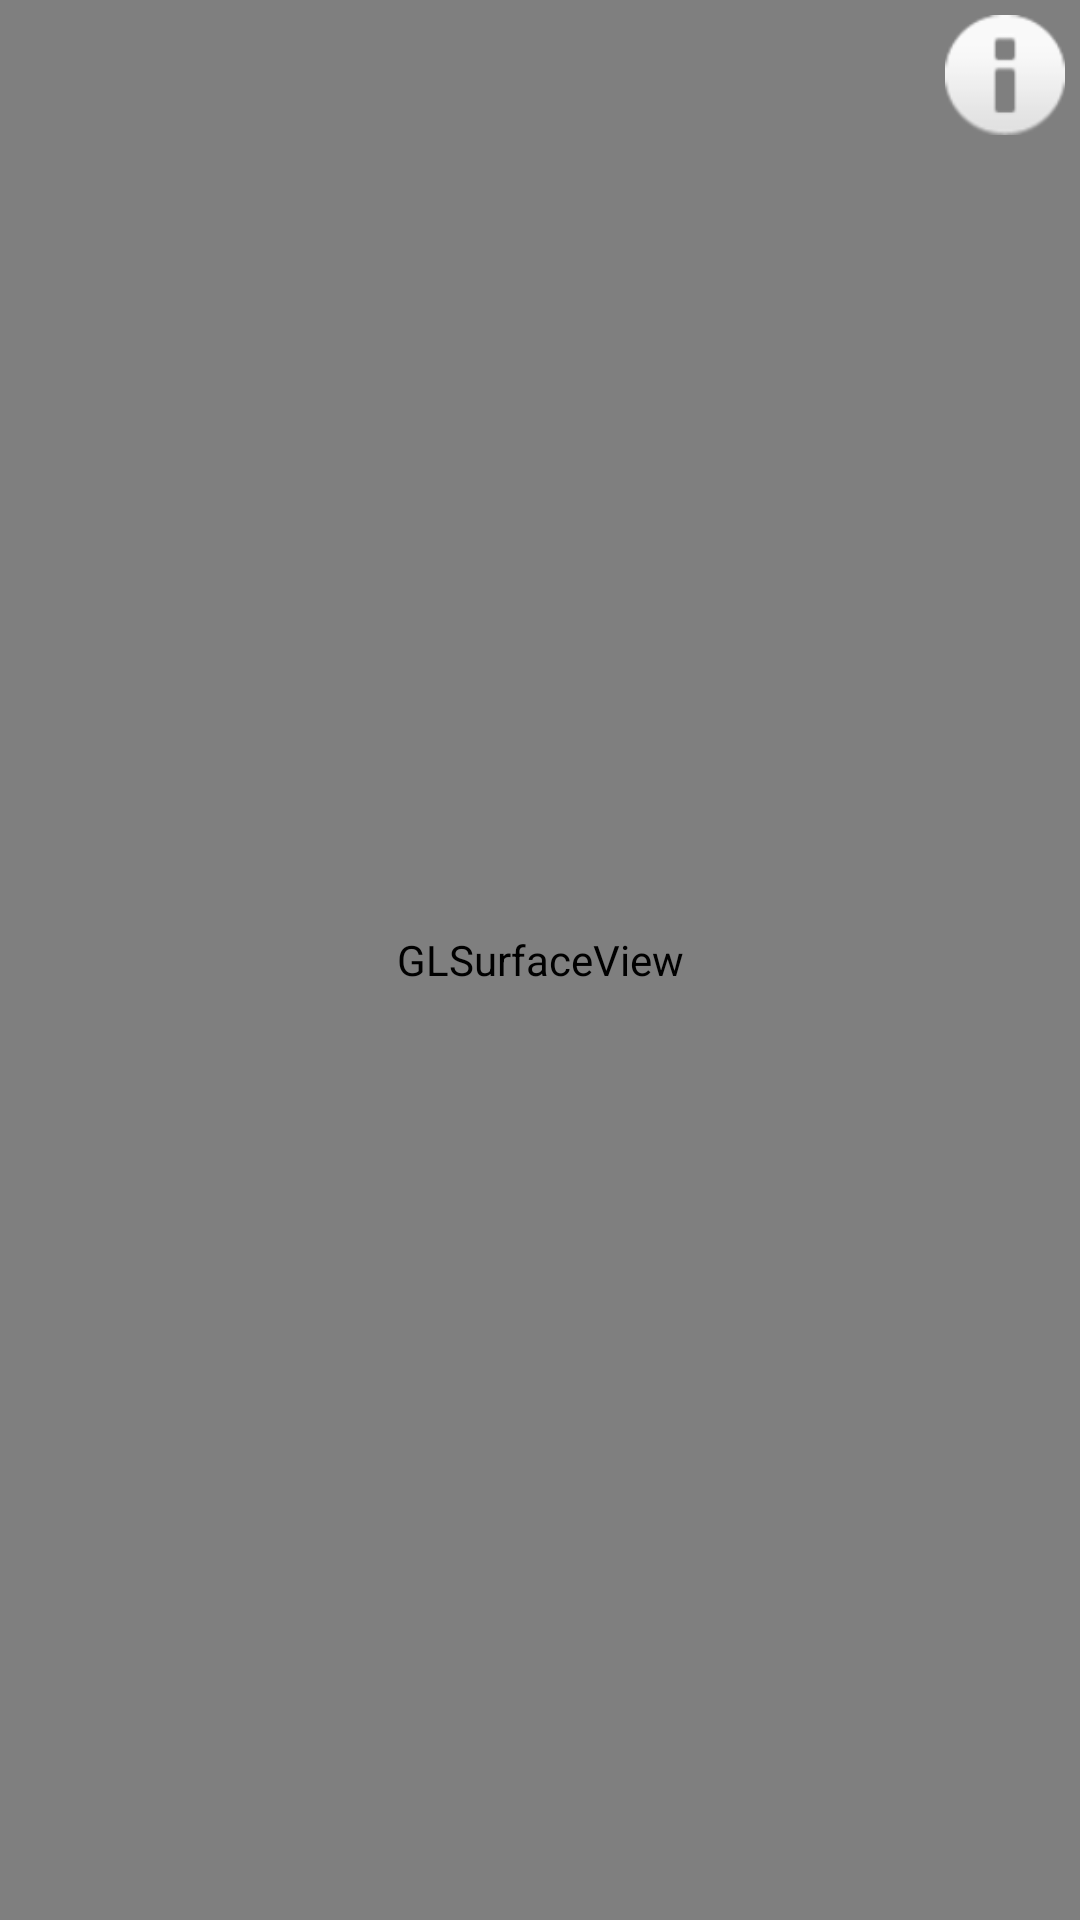

Point at icon controls on the screen. Image size 1080*1920, points as point (x, y).
info: point (1005, 75)
